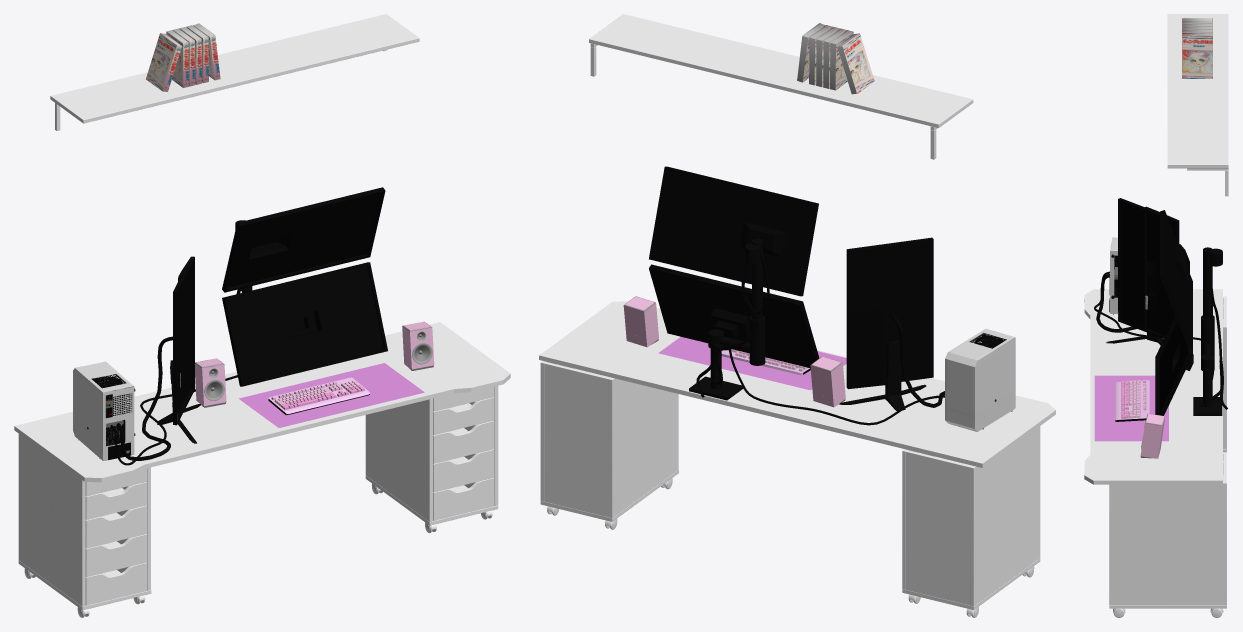
Rendered from desk.glb.
3 views of the same model, side by side, from view 1: azimuth 30°, elevation 25°; view 2: azimuth 150°, elevation 25°; view 3: azimuth 270°, elevation 25° (orthographic). The views are drawn at different scales.
Visible parts, largest first — view 1: table_Baked; view 2: table_Baked; view 3: table_Baked.
Boxes of the visible parts, x1=… form: table_Baked: x1=14, y1=14, x2=510, y2=617; table_Baked: x1=539, y1=14, x2=1055, y2=617; table_Baked: x1=1084, y1=14, x2=1228, y2=617.
Size of the model in its own units: 11.81 by 13.67 by 3.76.
1 material, 1 textured.
